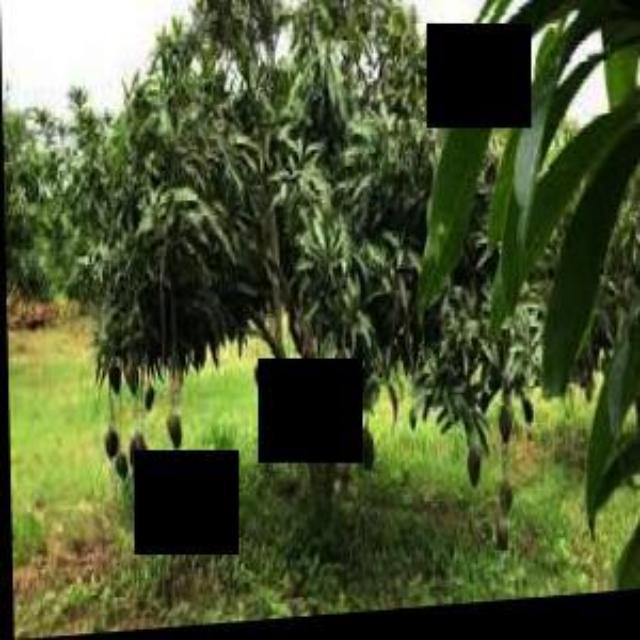tree: (75, 0, 559, 590)
